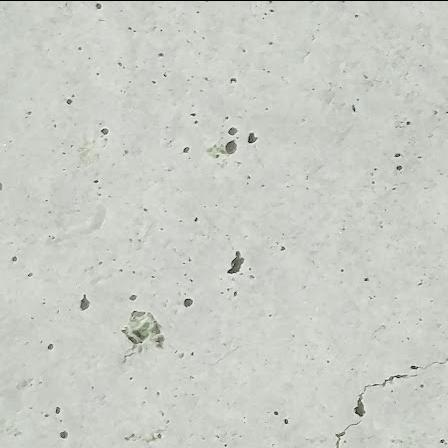crack: (343, 354, 420, 420), (326, 410, 364, 448), (408, 354, 448, 373), (115, 340, 142, 368)
spalling: (117, 305, 171, 349), (224, 247, 250, 279)
